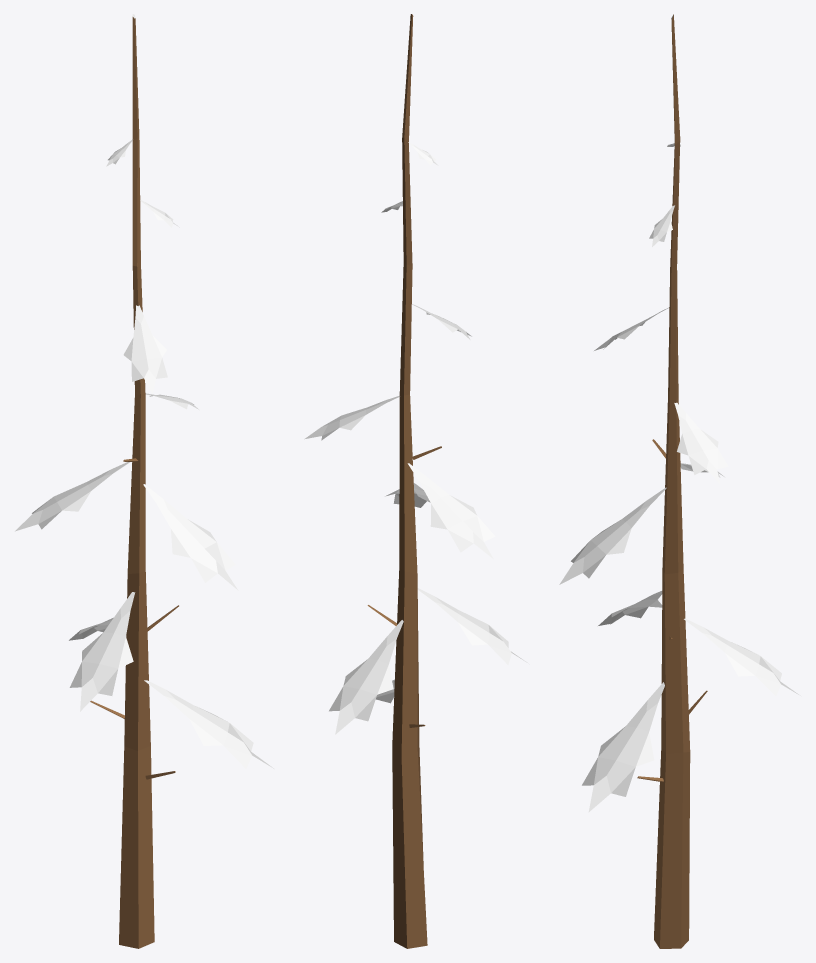
Rendered from Dead_Pine_Tree_OneSided_l_Snow_03.fbx.
The picture shows the model from 3 angles, left to right: view 1: azimuth 30°, elevation 25°; view 2: azimuth 150°, elevation 25°; view 3: azimuth 270°, elevation 25°; orthographic projection.
Visible parts, largest first — view 1: Dead_Pine_Tree_OneSided_l_Snow_03; view 2: Dead_Pine_Tree_OneSided_l_Snow_03; view 3: Dead_Pine_Tree_OneSided_l_Snow_03.
Boxes of the visible parts, <box> form: Dead_Pine_Tree_OneSided_l_Snow_03: <box>15,14,273,948</box>; Dead_Pine_Tree_OneSided_l_Snow_03: <box>304,14,527,948</box>; Dead_Pine_Tree_OneSided_l_Snow_03: <box>559,14,800,948</box>.
Size of the model in its own units: 438 by 1935 by 459.
